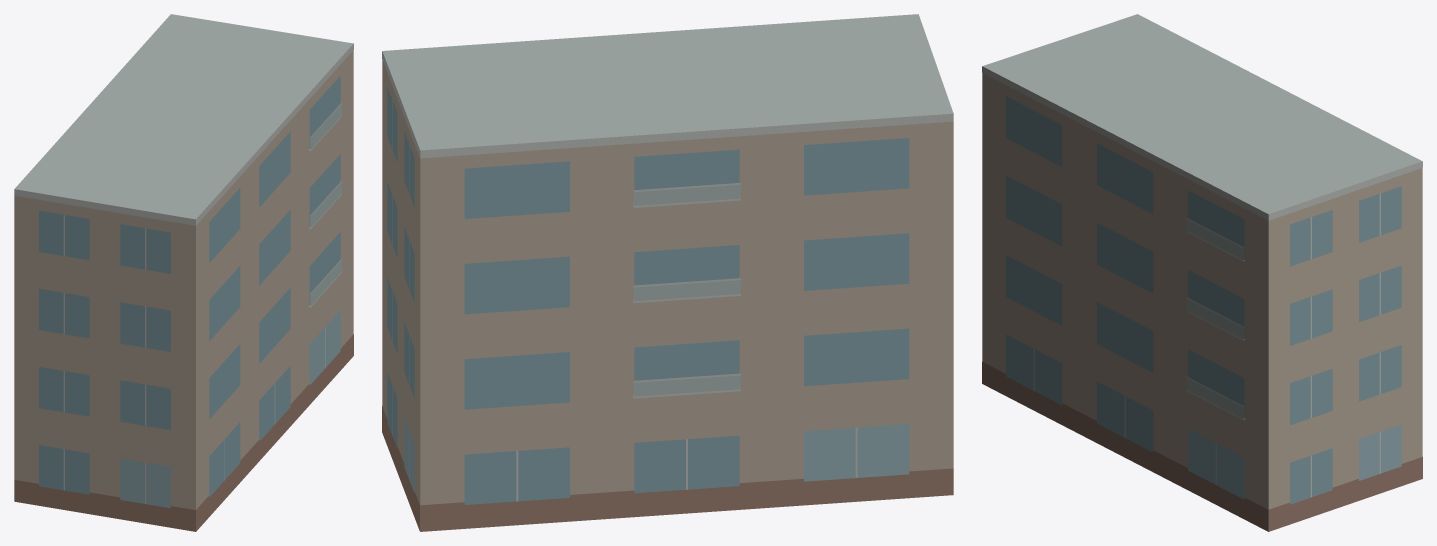
The model's file is survey-upis-32959019.glb.
The picture shows the model from 3 angles, left to right: view 1: azimuth 30°, elevation 25°; view 2: azimuth 150°, elevation 25°; view 3: azimuth 270°, elevation 25°; orthographic projection. The views are drawn at different scales.
Parts seen in each view (by area): view 1: survey-upis-32959019.tmp; view 2: survey-upis-32959019.tmp; view 3: survey-upis-32959019.tmp.
Boxes of the visible parts, x1,y1,x2,y2 form: survey-upis-32959019.tmp: [14, 14, 353, 531]; survey-upis-32959019.tmp: [382, 14, 953, 531]; survey-upis-32959019.tmp: [982, 14, 1422, 531].
Bounding box in the file's own units: 16.04 × 11.85 × 14.91.
